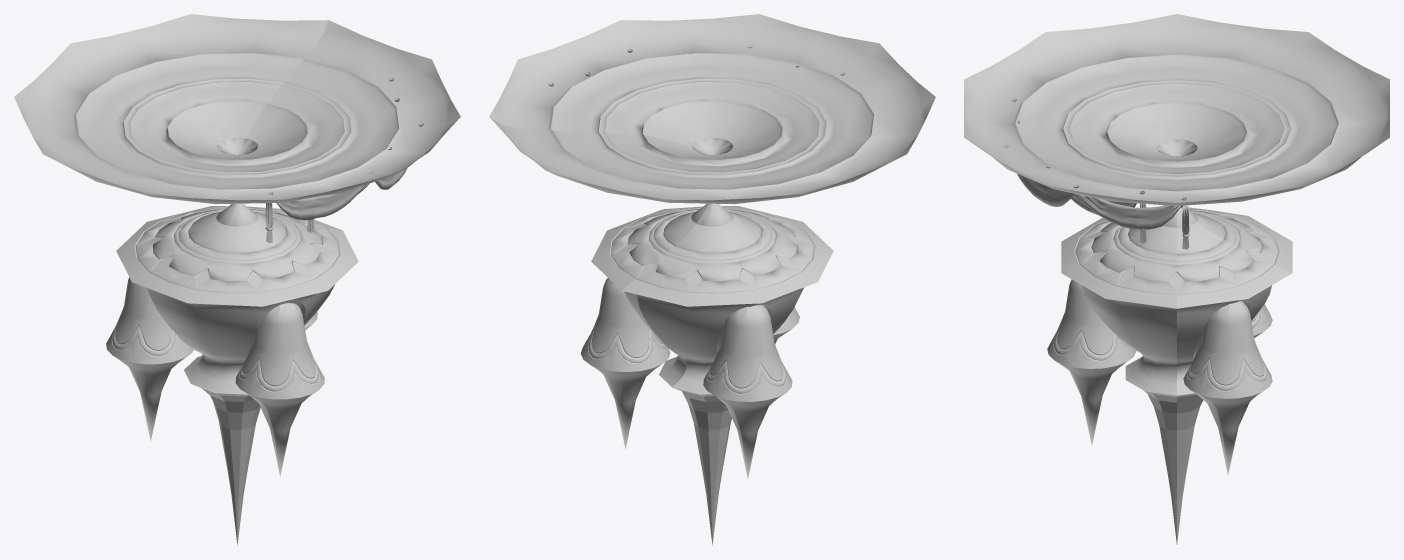
The model's file is astrobasecenterb.dae.
3 views of the same model, side by side, from view 1: azimuth 30°, elevation 25°; view 2: azimuth 150°, elevation 25°; view 3: azimuth 270°, elevation 25° (orthographic).
Visible parts, largest first — view 1: n0b4, n2b5, n1b6, n4b2; view 2: n0b4, n2b5, n1b6; view 3: n0b4, n2b5, n1b6, n4b2.
Part boxes in pixels (x1,y1,x2,y2): n0b4: (14,14,460,545); n2b5: (75,53,399,399); n1b6: (130,82,344,345); n4b2: (265,168,407,243); n0b4: (489,14,935,545); n2b5: (550,53,874,401); n1b6: (605,82,819,351); n0b4: (964,14,1389,544); n2b5: (1015,54,1338,398); n1b6: (1069,83,1284,358); n4b2: (1017,173,1189,249).
Size of the model in its own units: 7866 by 8482 by 7482.
